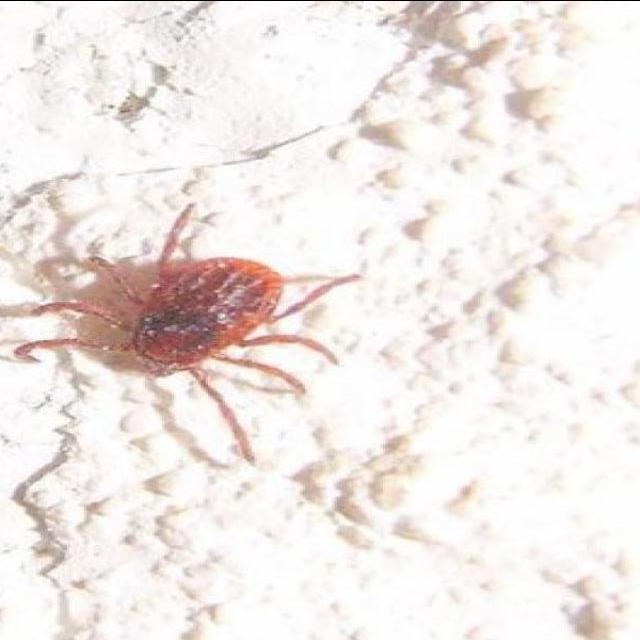Rhipicephalus Sanguineus-F: (0, 201, 364, 465)
